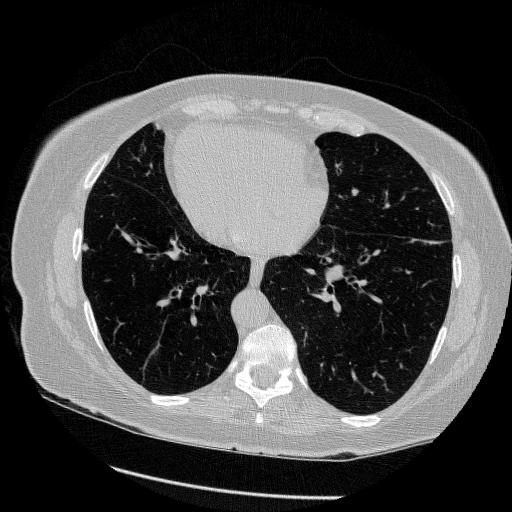nodule: (82, 242, 94, 254)
